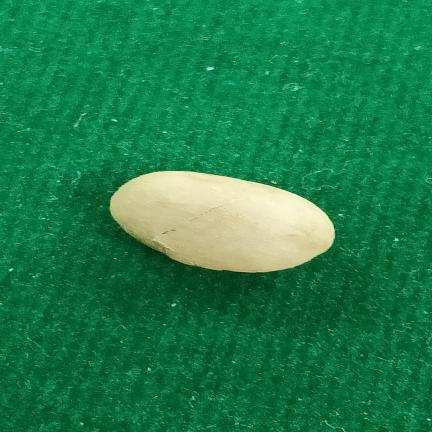parchment: (110, 171, 335, 273)
